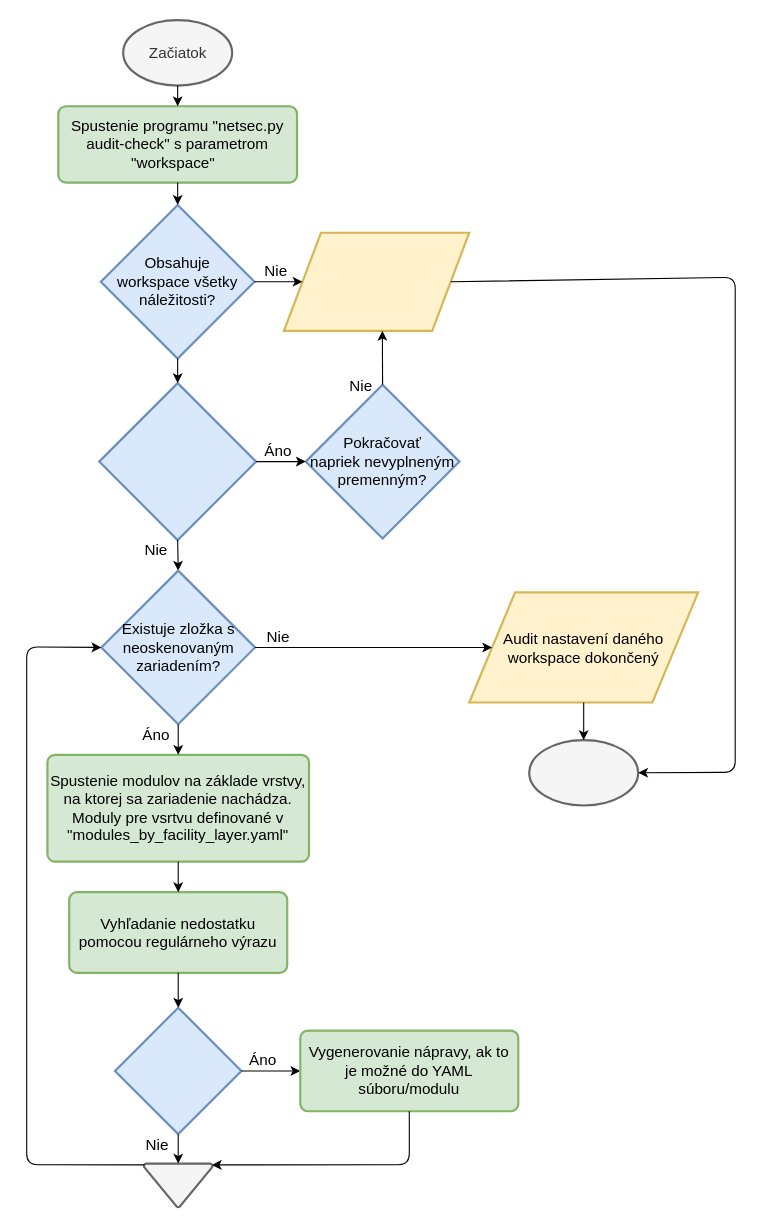
Image size: 763x1226. Some labels were removed from this diagram. The shapes that lost their labels are listed below. From the top down, each one's centre as x and y in pixels, then its label:
pixel 376 281: Správa o nemožnosti pokračovať
pixel 177 461: Obsahuje "own_variables.yaml" prázdne premenné?
pixel 583 772: Koniec
pixel 177 1070: Nájdený nedostatok?
